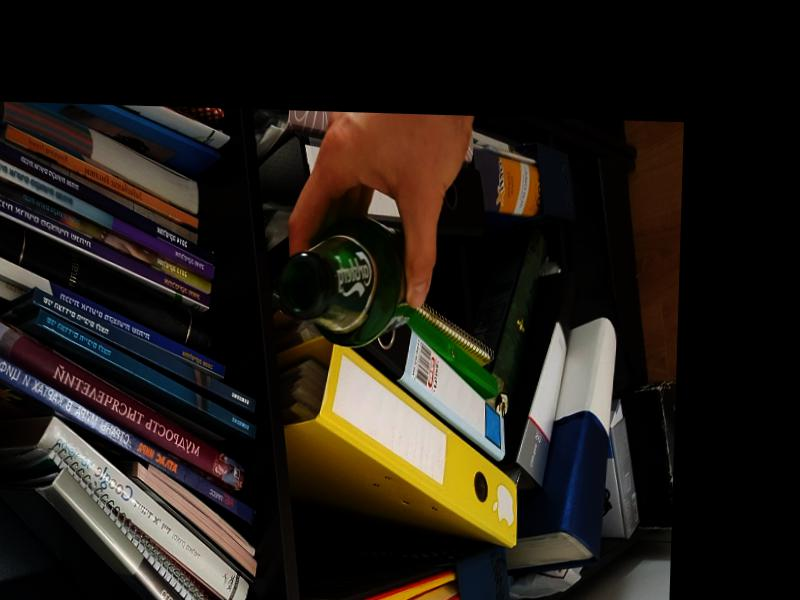Beer: (280, 219, 419, 348)
